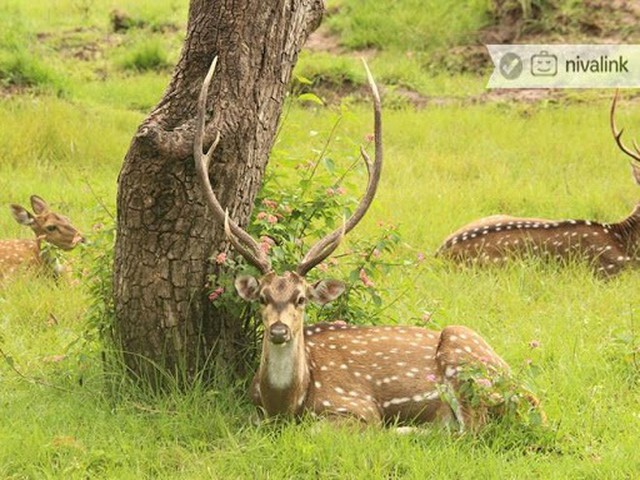deer: (168, 43, 555, 449), (427, 77, 640, 289), (1, 183, 94, 292)
